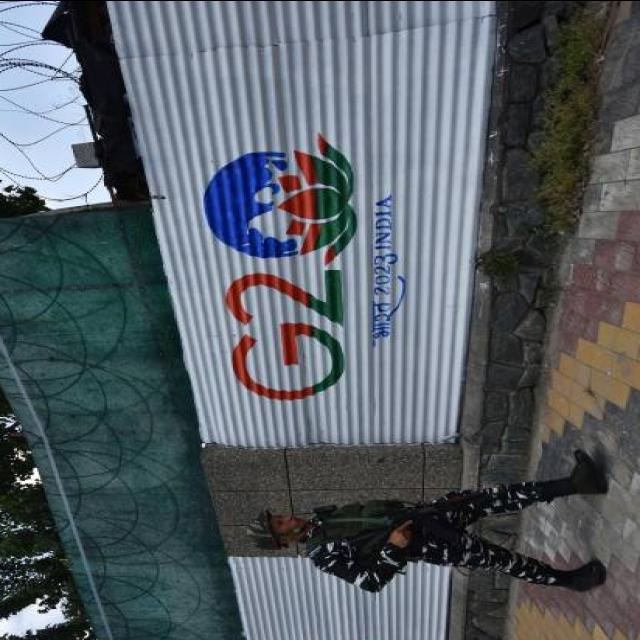soldier: (245, 447, 604, 591)
